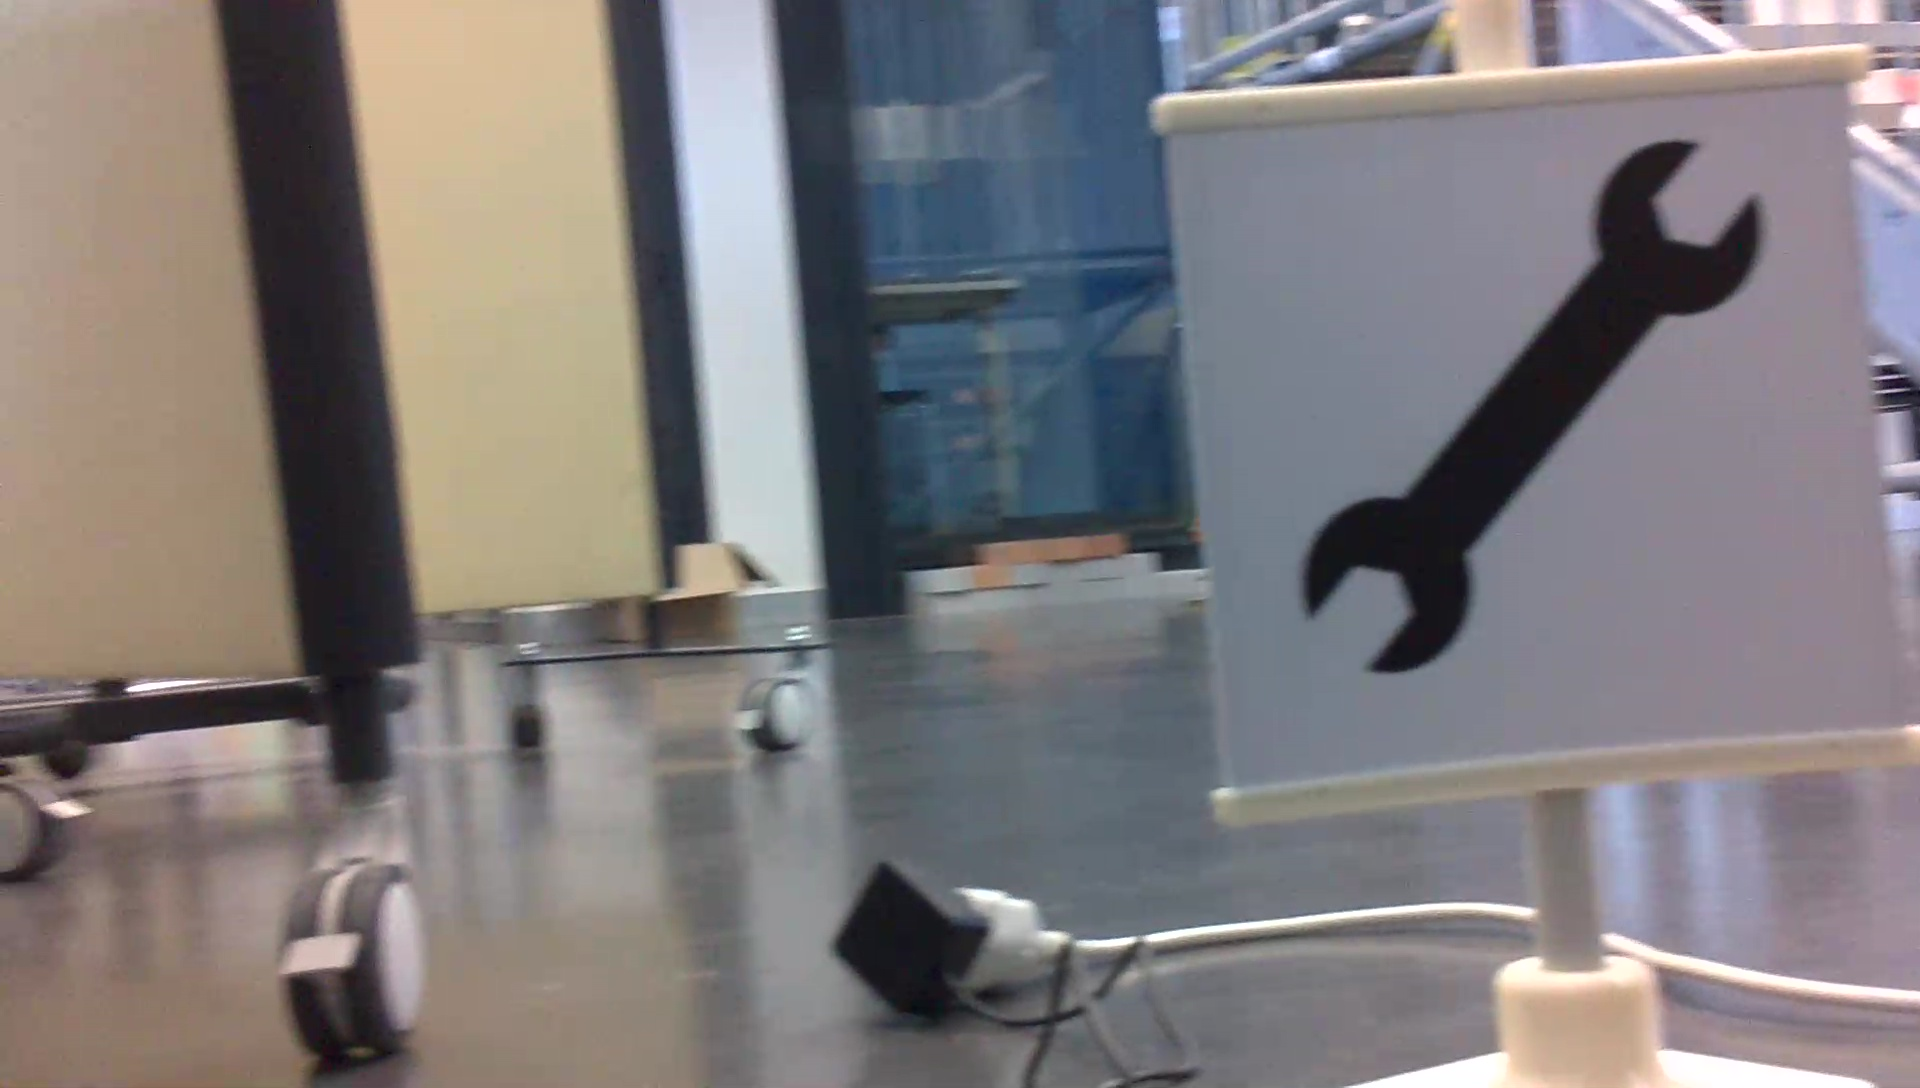wrench: (1279, 133, 1778, 686)
